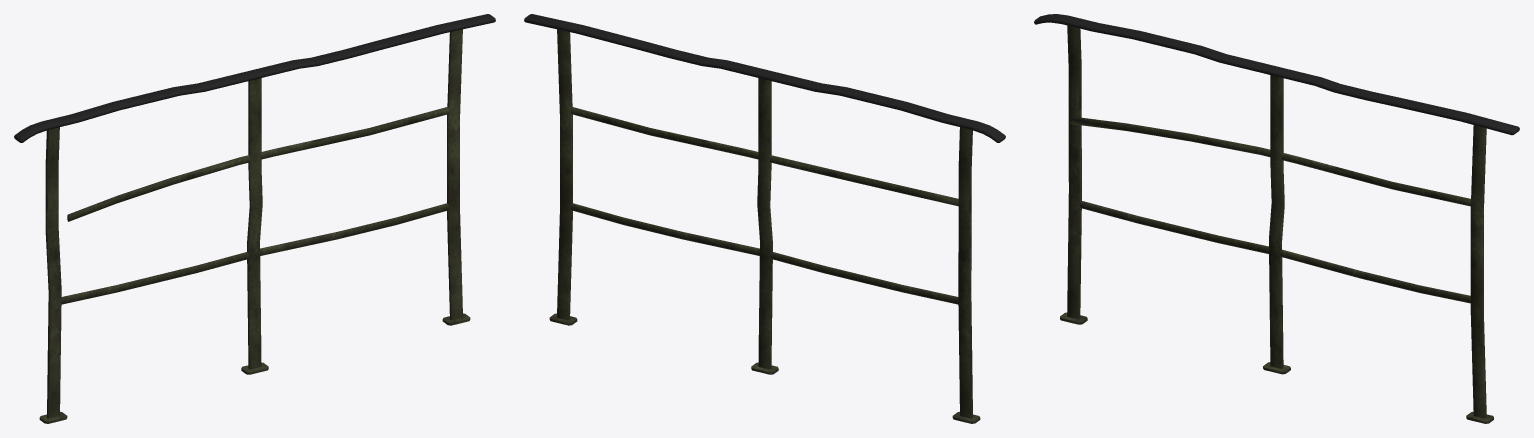
File: hand_rail_3.obj
3 views of the same model, side by side, from view 1: azimuth 30°, elevation 25°; view 2: azimuth 150°, elevation 25°; view 3: azimuth 330°, elevation 25° (orthographic).
Parts seen in each view (by area): view 1: hand_rail_3; view 2: hand_rail_3; view 3: hand_rail_3.
Part boxes in pixels (<box>): hand_rail_3: <box>14,14,495,423</box>; hand_rail_3: <box>524,14,1005,423</box>; hand_rail_3: <box>1034,14,1519,423</box>.
Size of the model in its own units: 2.13 by 1.28 by 0.1054.
